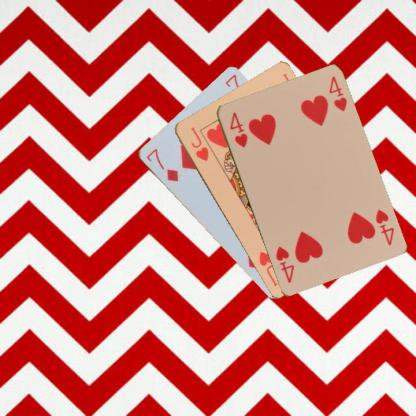4h: (372, 206, 395, 247), (226, 109, 249, 149)
7d: (142, 146, 180, 183)
Jh: (187, 124, 210, 162)
